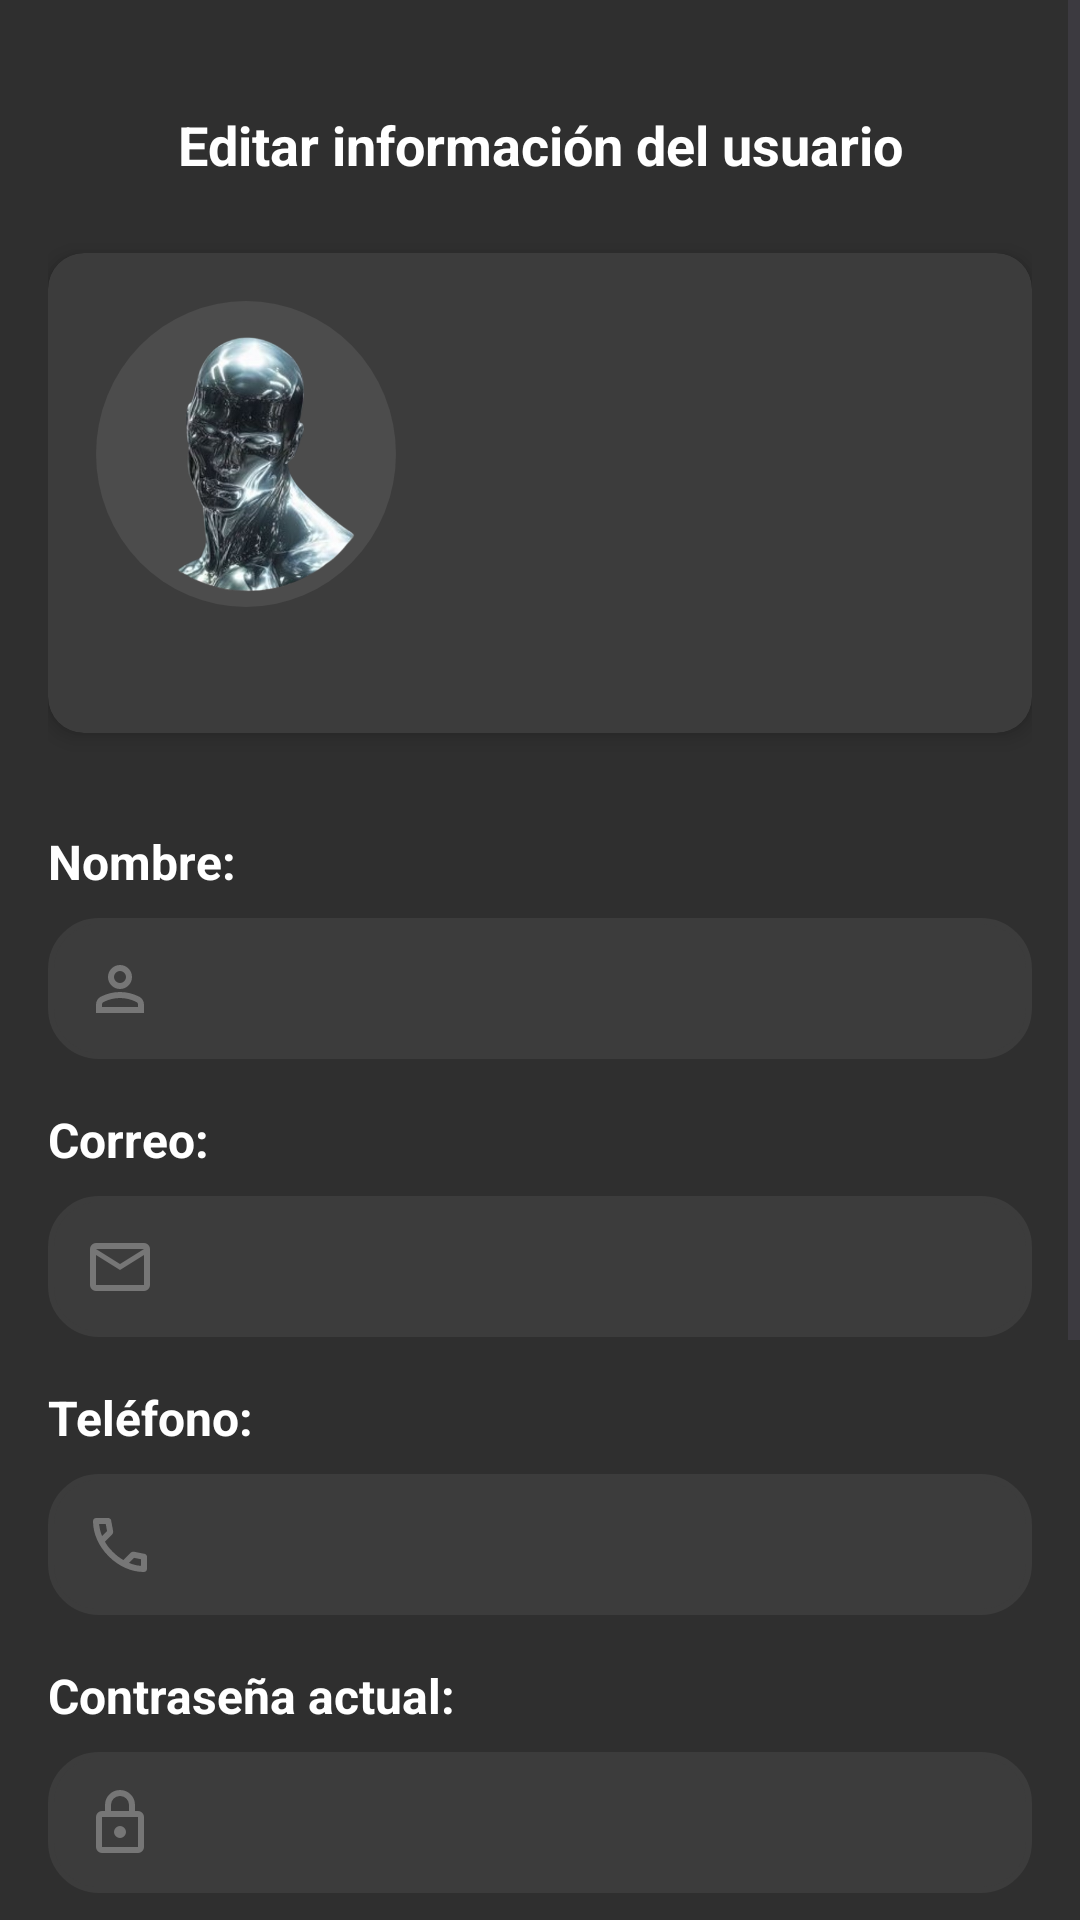

Named icons in this screenshot (1080 × 1920) and their centers, (x=x, y=y):
profile: (x=246, y=454)
